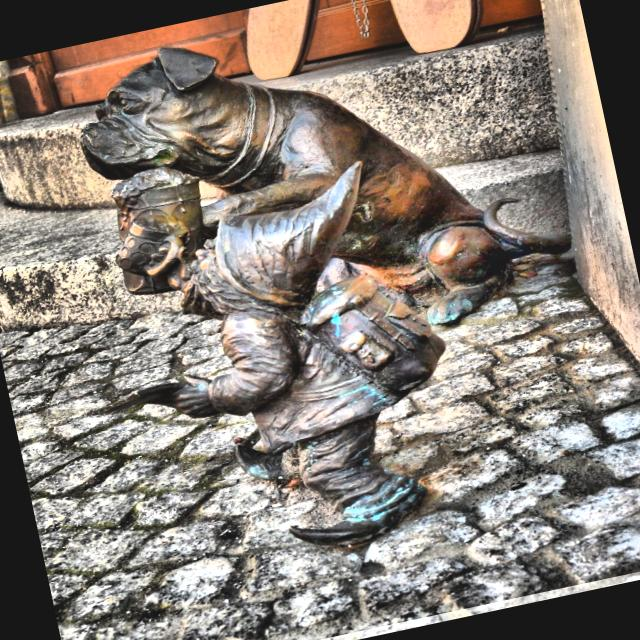Piwozlopek_ i_Piesel_Piwosz: (82, 48, 570, 545)
